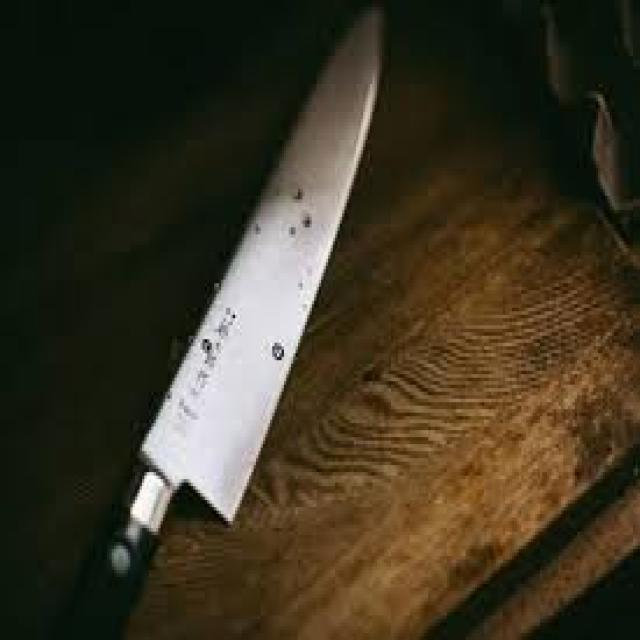Knife: (54, 3, 384, 637)
